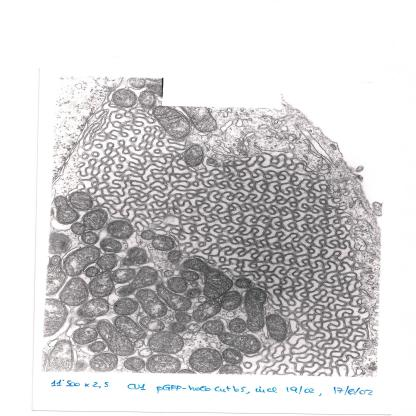mitochondria: (182, 259, 234, 299), (96, 318, 135, 356), (113, 266, 159, 297), (151, 107, 191, 140), (62, 246, 101, 277), (154, 284, 192, 312), (45, 340, 77, 372), (134, 289, 168, 318), (243, 289, 266, 331), (182, 106, 219, 132), (44, 299, 69, 337), (59, 277, 90, 307), (217, 334, 260, 355), (148, 331, 184, 355), (47, 256, 68, 297), (188, 348, 223, 372), (88, 271, 117, 299), (145, 353, 181, 374), (114, 316, 145, 340), (76, 299, 111, 319), (191, 300, 222, 322), (265, 314, 289, 342), (54, 196, 78, 224), (81, 208, 109, 230), (68, 191, 96, 212), (89, 353, 119, 372), (120, 248, 150, 267), (112, 88, 139, 109), (107, 220, 135, 240), (182, 144, 204, 168), (72, 326, 99, 345), (220, 292, 243, 312), (138, 90, 160, 110), (112, 298, 139, 314), (51, 233, 70, 255), (139, 316, 165, 332), (152, 235, 176, 251), (201, 320, 226, 335), (99, 238, 124, 253), (166, 277, 189, 293), (95, 254, 119, 269), (222, 349, 243, 365), (123, 358, 147, 372), (229, 317, 247, 333), (166, 251, 185, 266), (87, 341, 107, 354), (128, 78, 150, 89), (174, 311, 192, 324), (180, 270, 199, 282), (82, 232, 98, 246), (138, 228, 156, 240), (70, 223, 88, 235), (219, 365, 243, 374), (234, 278, 254, 288), (168, 323, 188, 333), (185, 288, 201, 300), (84, 267, 99, 276)
